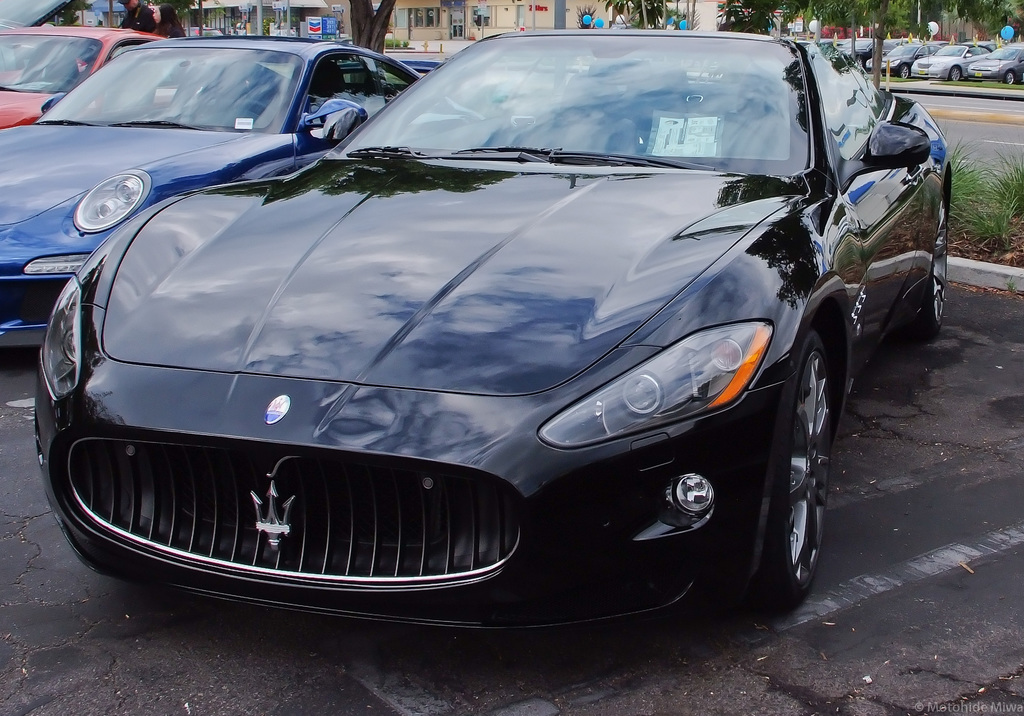mobil: (46, 33, 972, 627)
